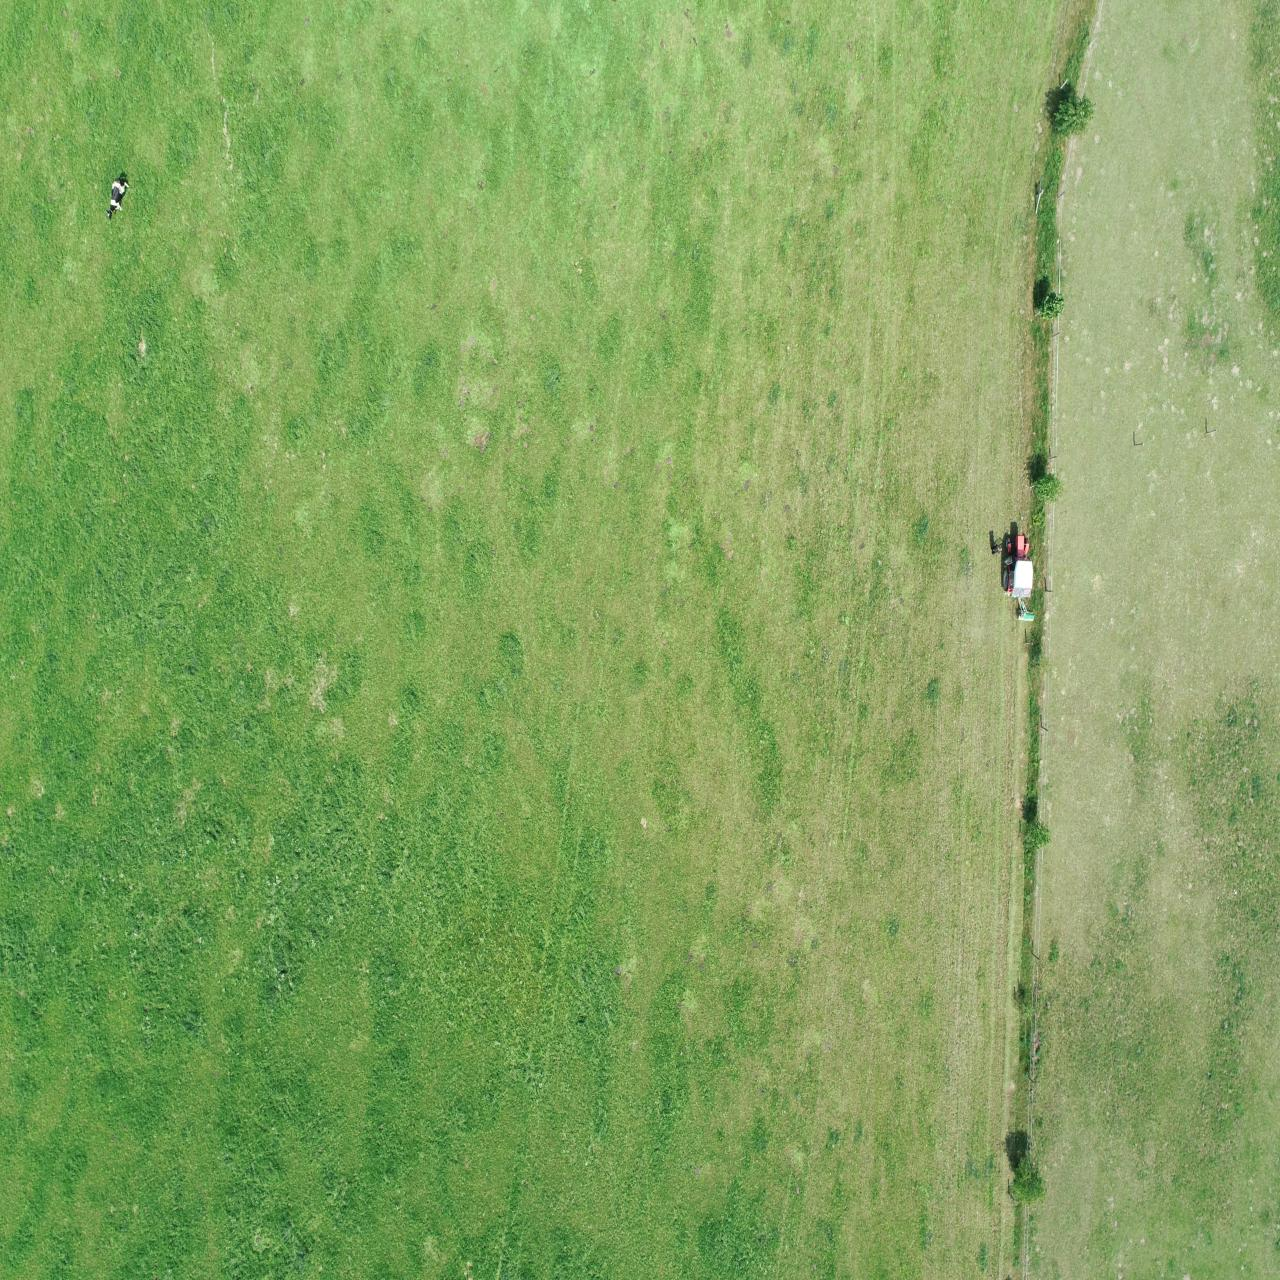cow: (102, 172, 132, 226)
